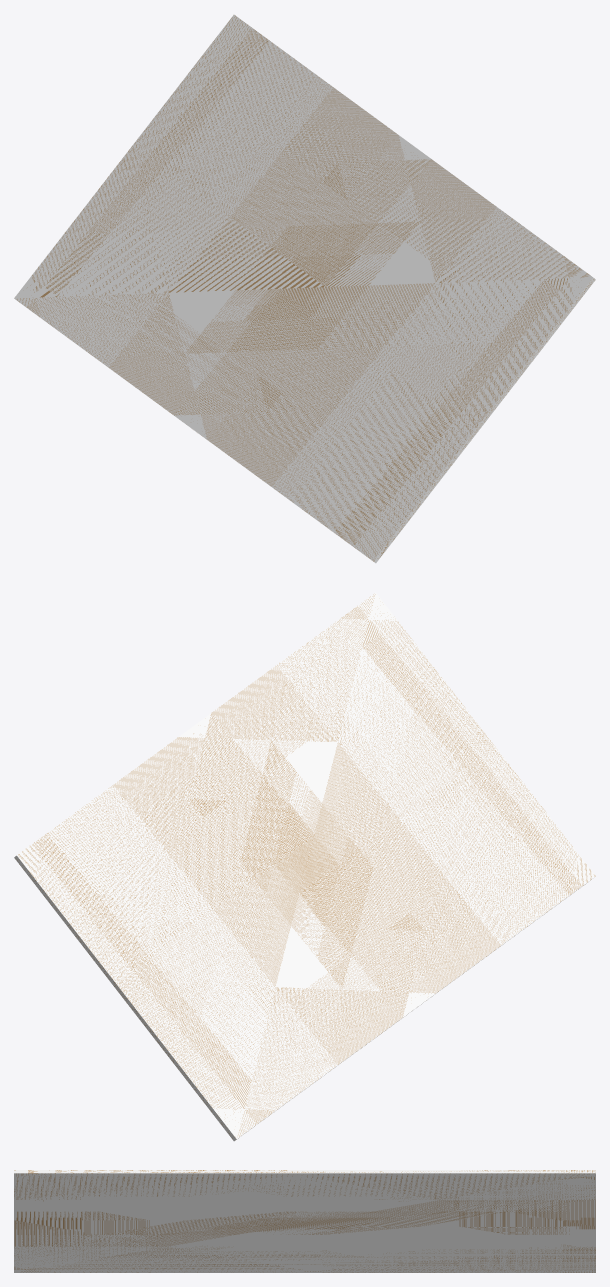
Rendered from original-7.obj.
The picture shows the model from 3 angles, top to bottom: view 1: azimuth 30°, elevation 25°; view 2: azimuth 150°, elevation 25°; view 3: azimuth 270°, elevation 25°; orthographic projection. The views are drawn at different scales.
Visible parts, largest first — view 1: Box_Top_1_1/Box_Top_1/mesh5/mesh5-geometry#mesh5-geometry; view 2: Box_Top_1_1/Box_Top_1/mesh5/mesh5-geometry#mesh5-geometry; view 3: Box_Top_1_1/Box_Top_1/mesh5/mesh5-geometry#mesh5-geometry.
Boxes of the visible parts, left/top/right/bottom form: Box_Top_1_1/Box_Top_1/mesh5/mesh5-geometry#mesh5-geometry: left=14, top=14, right=595, bottom=563; Box_Top_1_1/Box_Top_1/mesh5/mesh5-geometry#mesh5-geometry: left=14, top=592, right=595, bottom=1141; Box_Top_1_1/Box_Top_1/mesh5/mesh5-geometry#mesh5-geometry: left=14, top=1170, right=595, bottom=1272.
Bounding box in the file's own units: 0.3759 × 0.3759 × 1.05.
